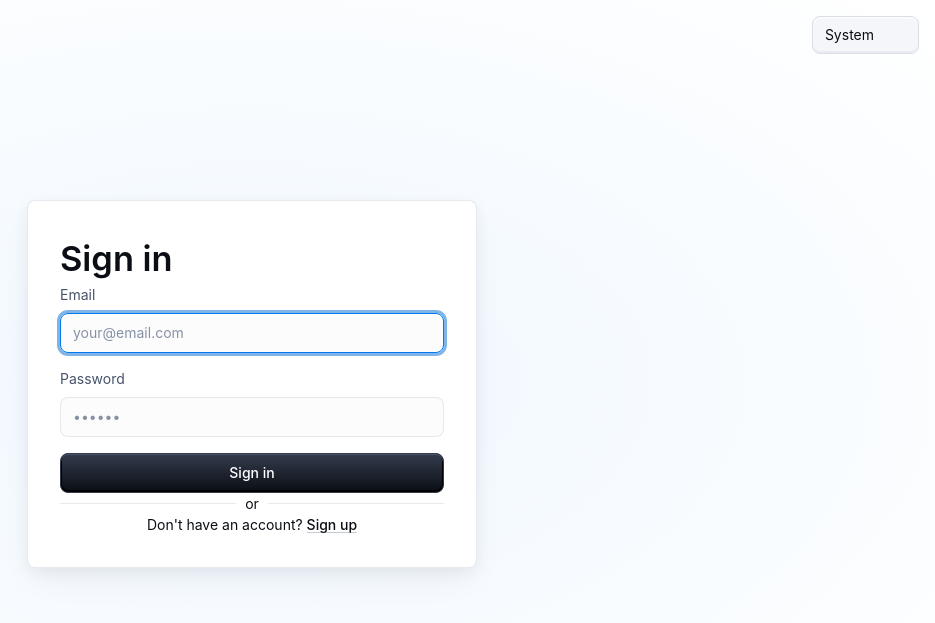
Auth - Sign In › shows validation errors on empty submit
The width and height of the screenshot is (935, 623).
Click the button with id "sign-in-submit": (252, 473) top-left (60, 453), bottom-right (444, 493)
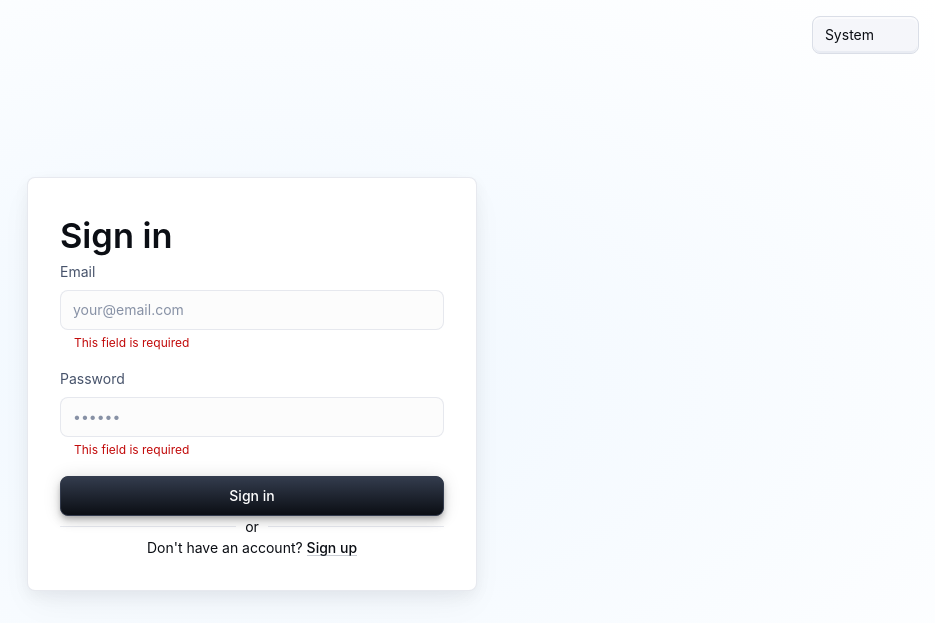
Now the text "This field is required" below "Email" is shown, box top-left (74, 335), bottom-right (189, 350)
Now the text "This field is required" below "Password" is shown, box top-left (74, 442), bottom-right (189, 457)
